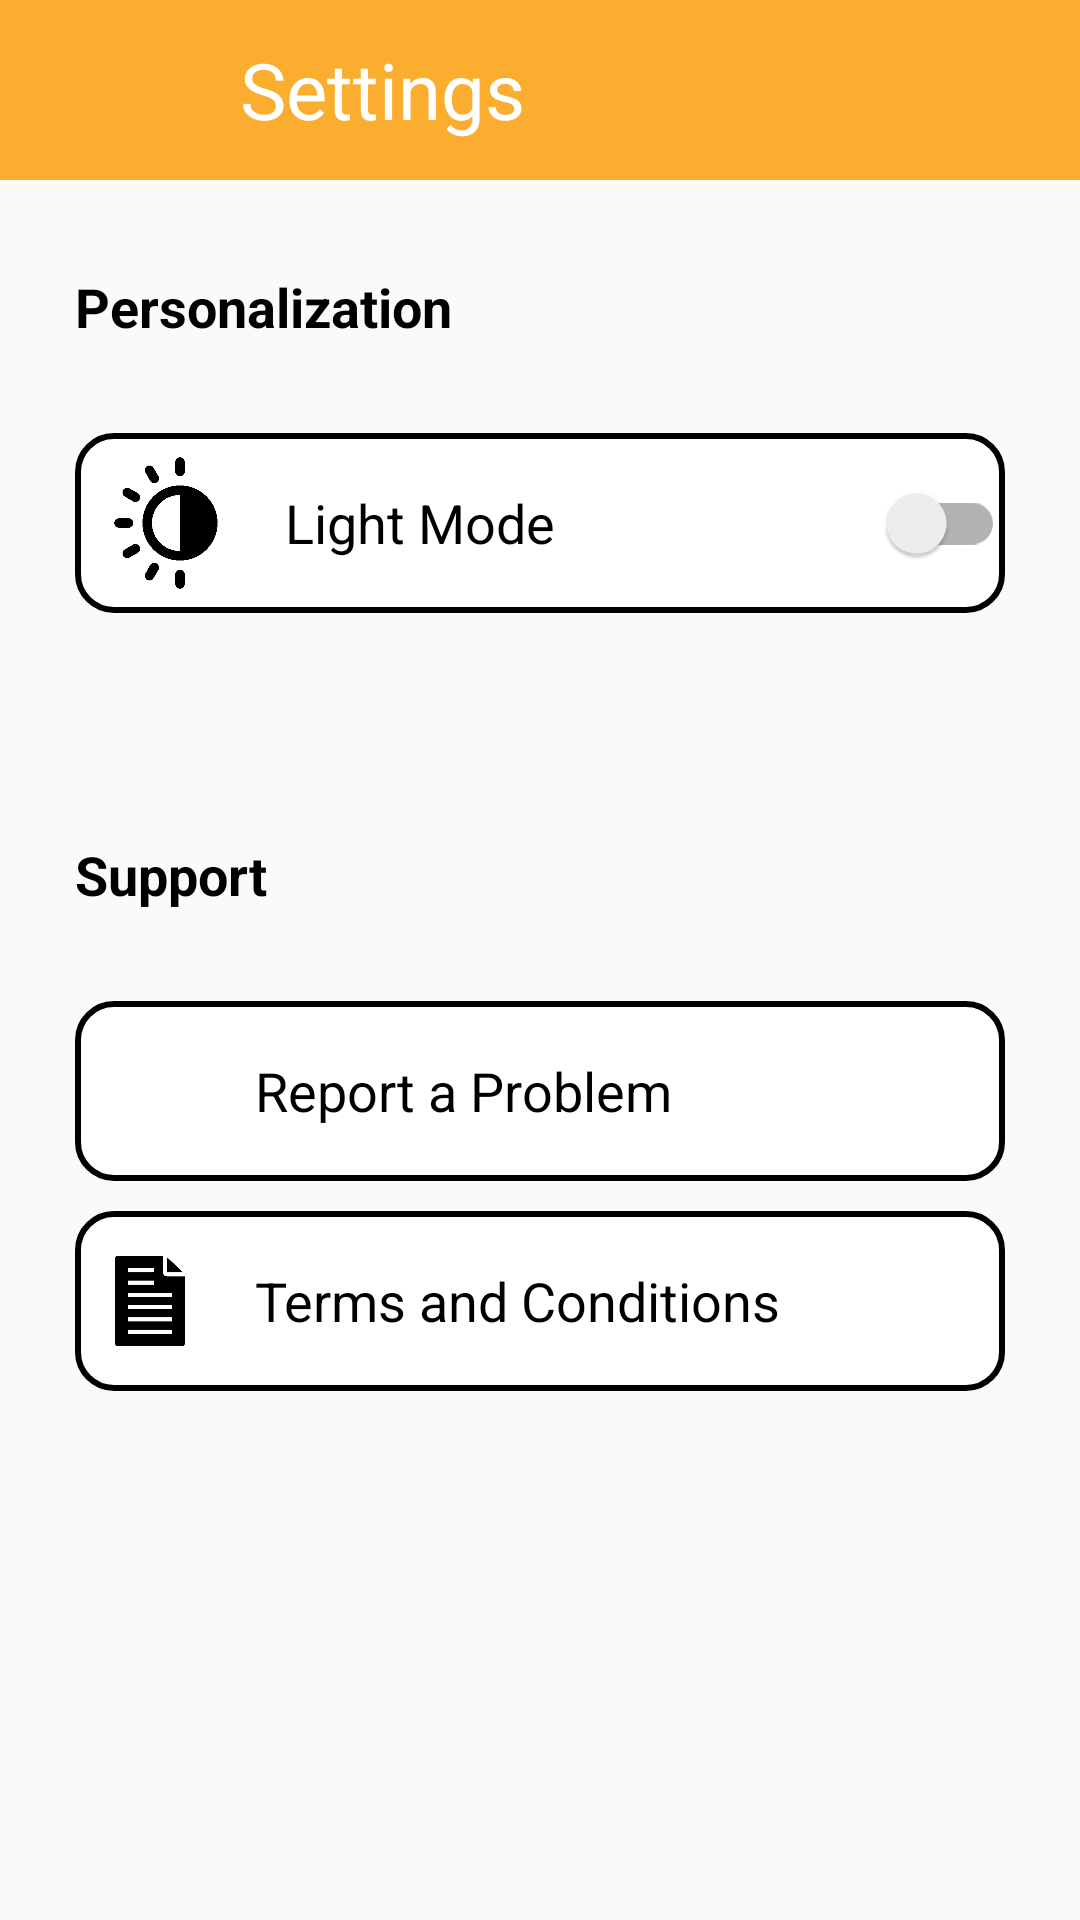

Icon bounding boxes for this 1080 x 1920 phone screenshot, format (x1, y1, x2, y2):
sun: (114, 457, 218, 589)
